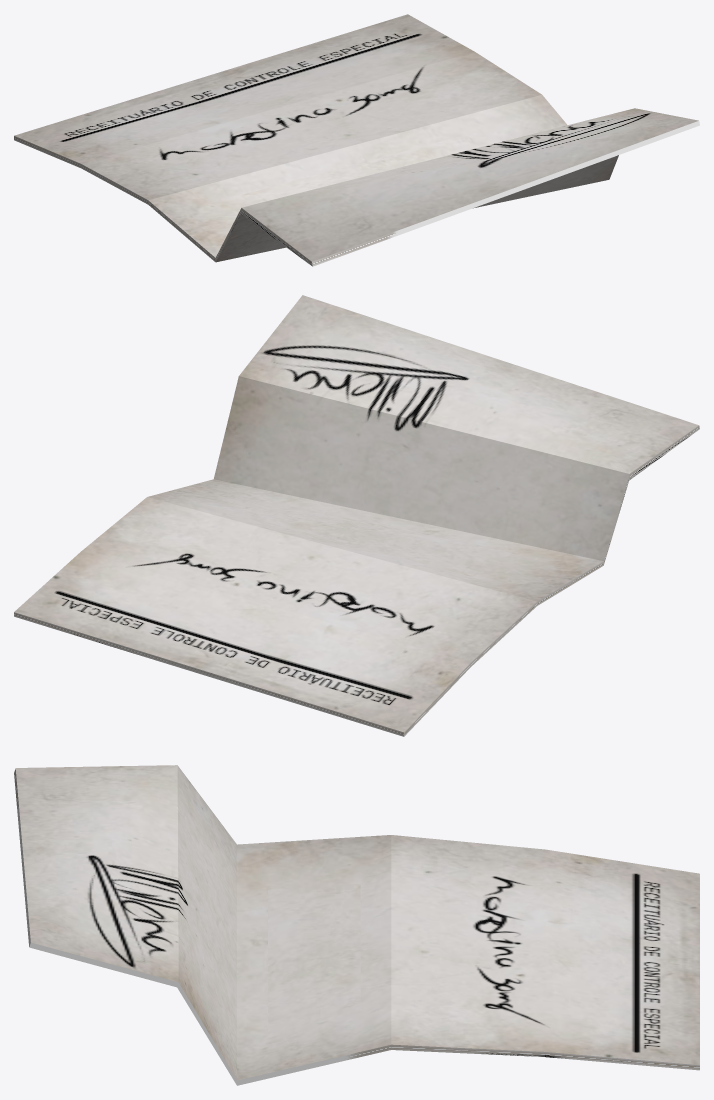
File: Receituario.fbx
3 renders of one model, top to bottom at view 1: azimuth 30°, elevation 25°; view 2: azimuth 150°, elevation 25°; view 3: azimuth 270°, elevation 25°, orthographic. The views are drawn at different scales.
Visible parts, largest first — view 1: Cube; view 2: Cube; view 3: Cube.
Part boxes in pixels (bbox=[...]): Cube: bbox=[14, 14, 699, 266]; Cube: bbox=[14, 295, 699, 736]; Cube: bbox=[14, 765, 699, 1085].
Bounding box in the file's own units: 200 × 66.38 × 263.
Materials: 1 (1 with a texture image).
